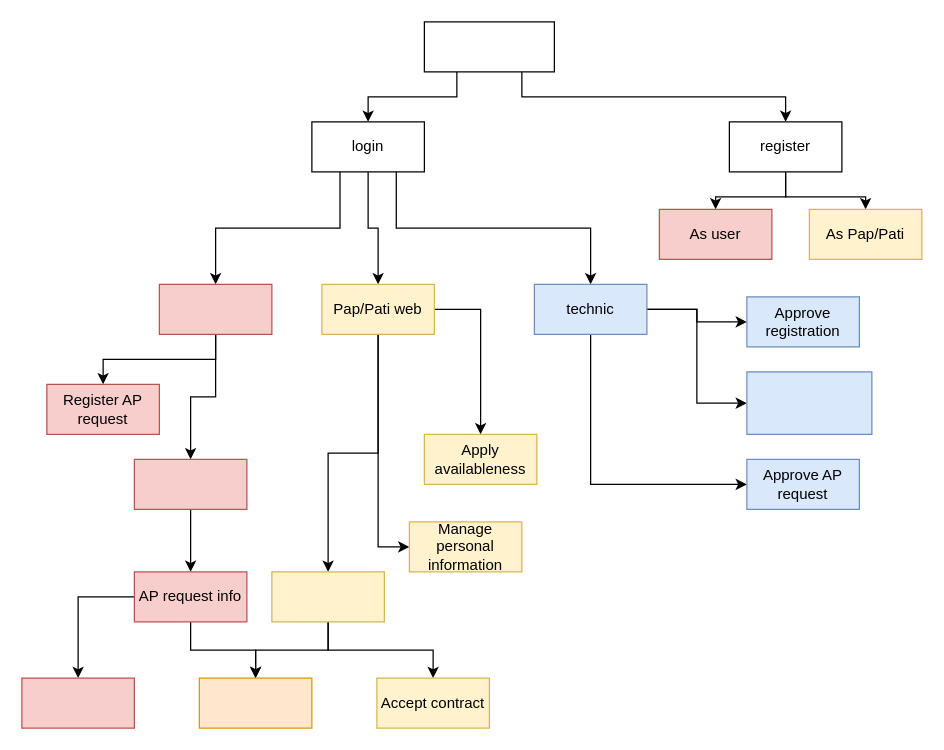
The diagram is 944 pixels wide and 750 high, and some of its shapes have lost their labels. The shapes that lost their labels are listed below. From the top down, each one's centre as x and y in pixels, then its label:
At [488,46]: "Página de inicio".
At [215,308]: "user web".
At [809,402]: "Validate and certificate contract".
At [190,483]: "View AP requests".
At [327,596]: "OVI User assign list".
At [77,702]: "Contract creation".
At [255,702]: "Communication".
